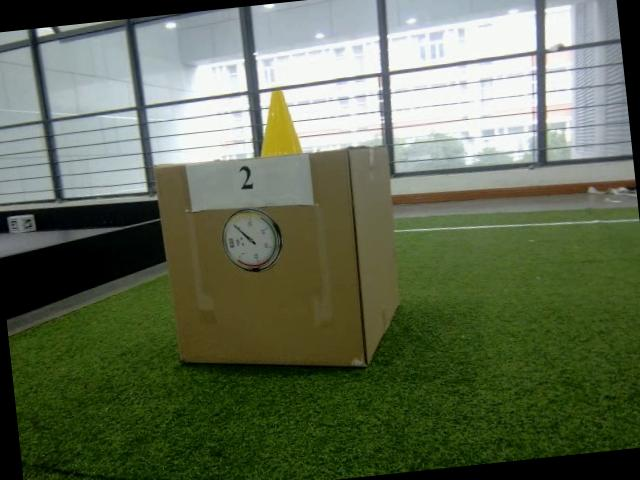2: (237, 165, 254, 190)
Dashboard: (220, 206, 286, 276)
ssi: (228, 238, 234, 248)
yellow_barrel: (252, 90, 302, 158)
